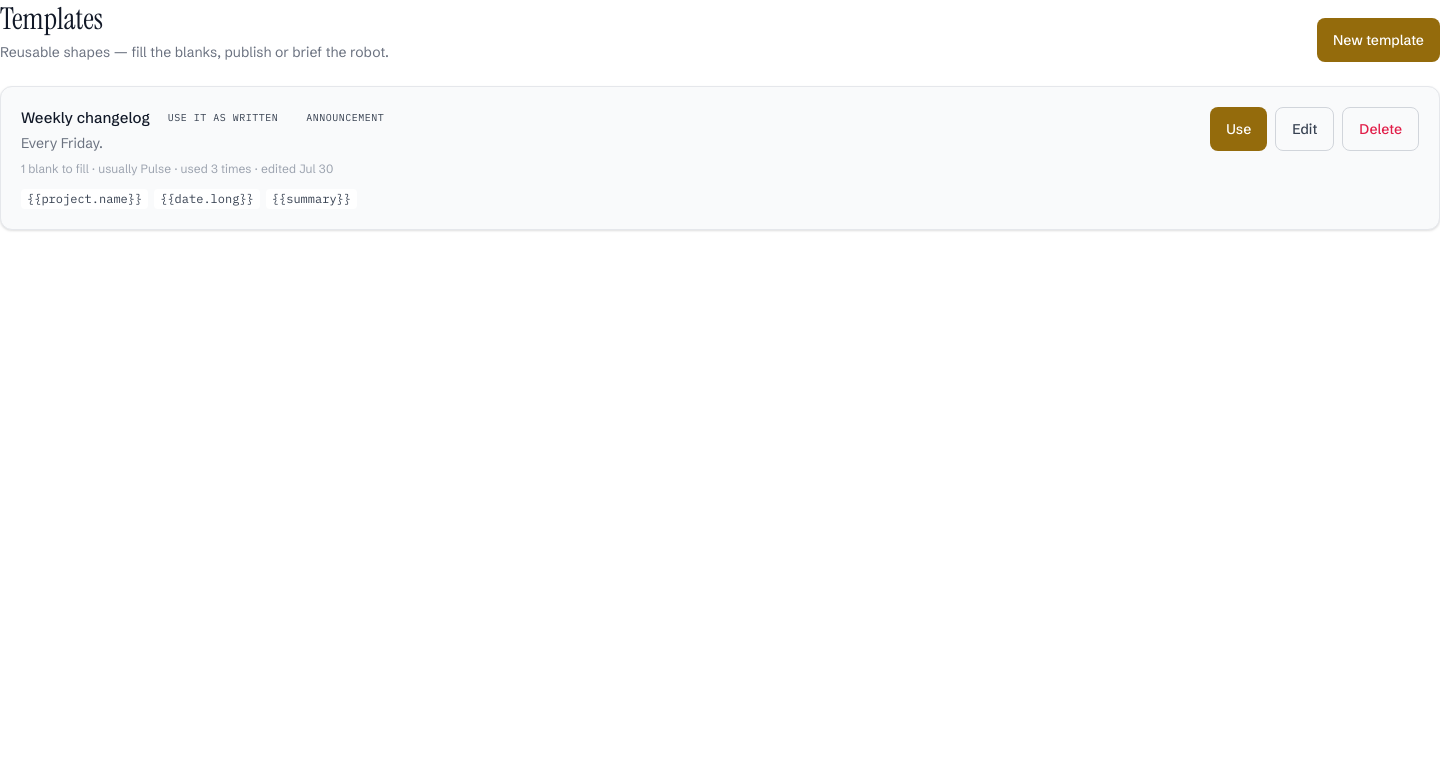
Test case: the editor › names a variable that the template never uses
Click the button "Edit": [1305, 128] box [1275,106,1334,150]
(page scrolled)
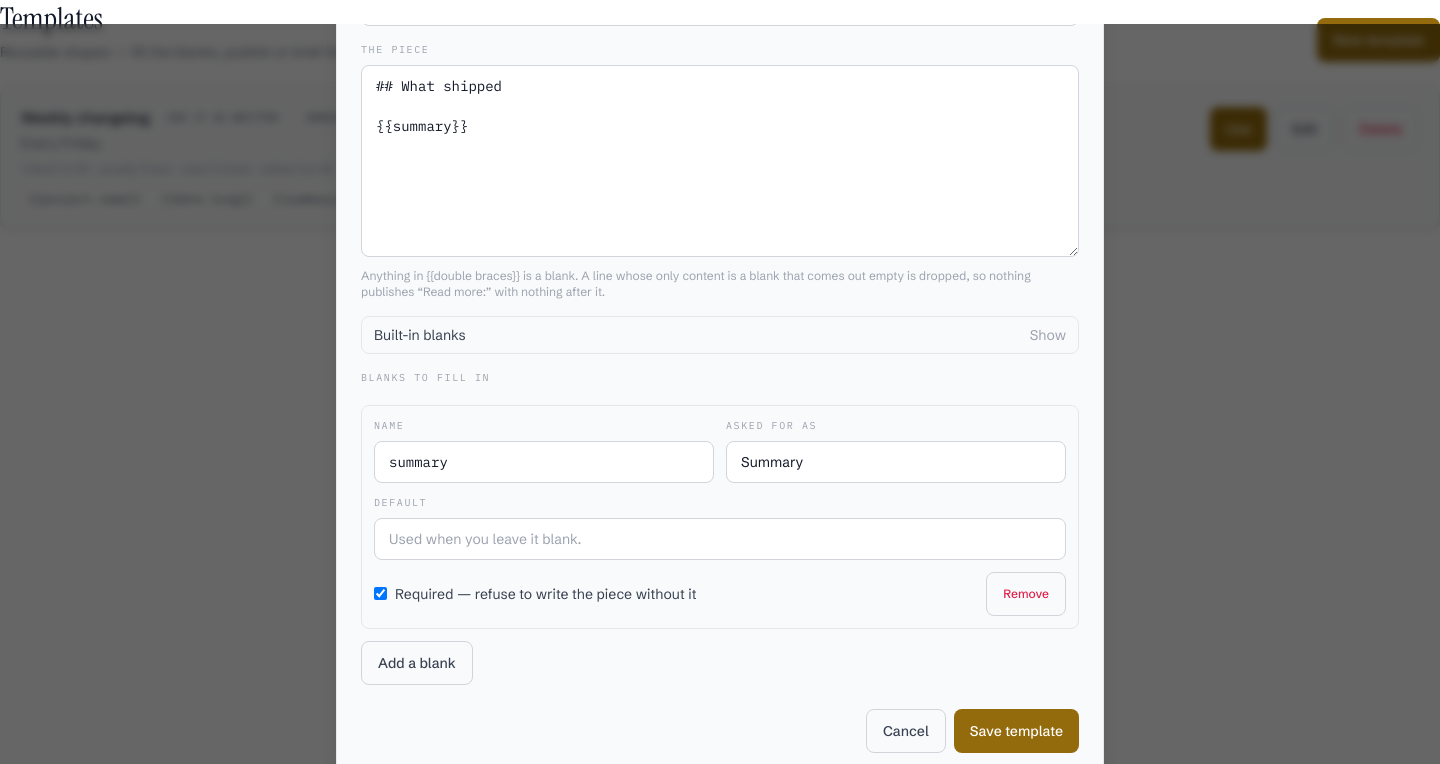
Click the button "Add a blank": [417, 662] box [361,640,473,684]
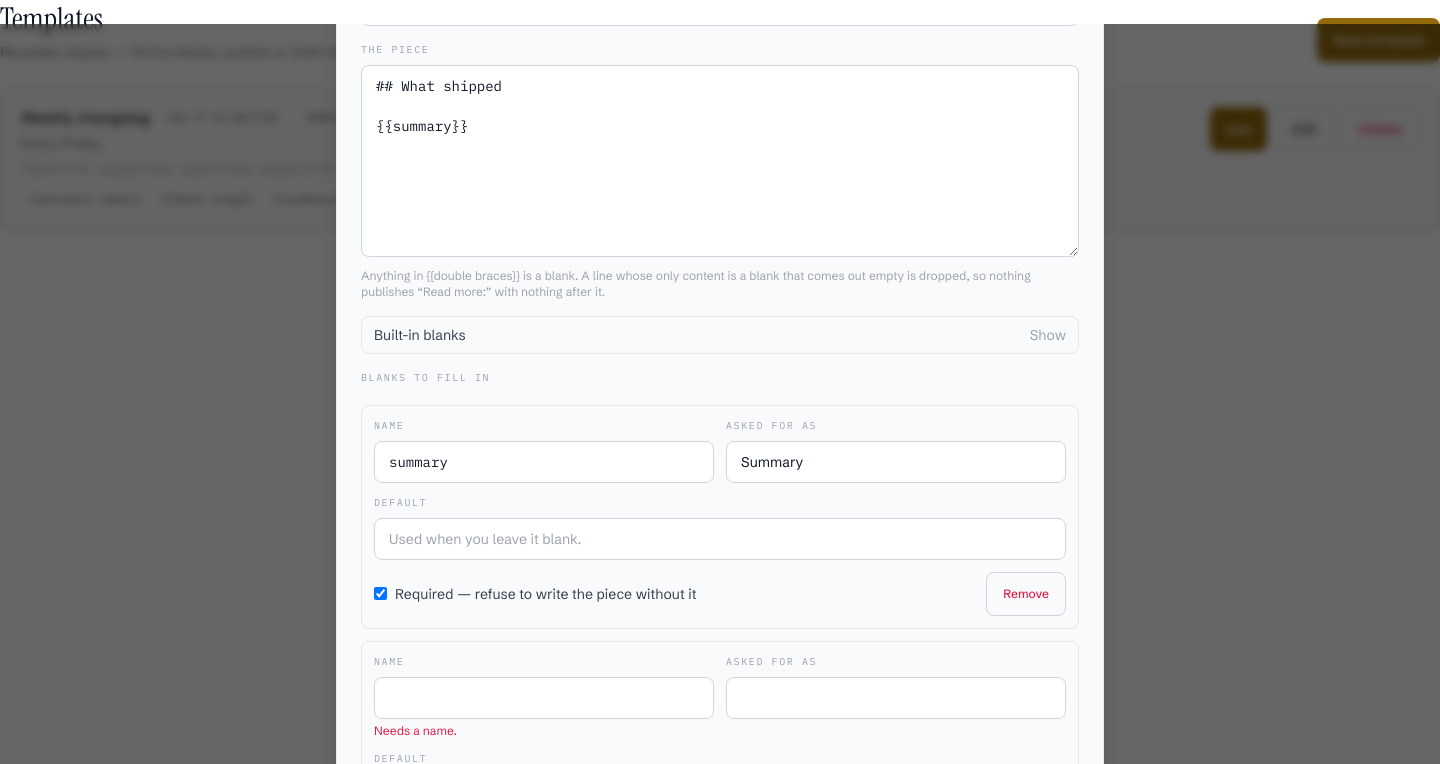
In the 2nd field labelled "Name": [544, 698] box [374,676,714,718], type "spare"
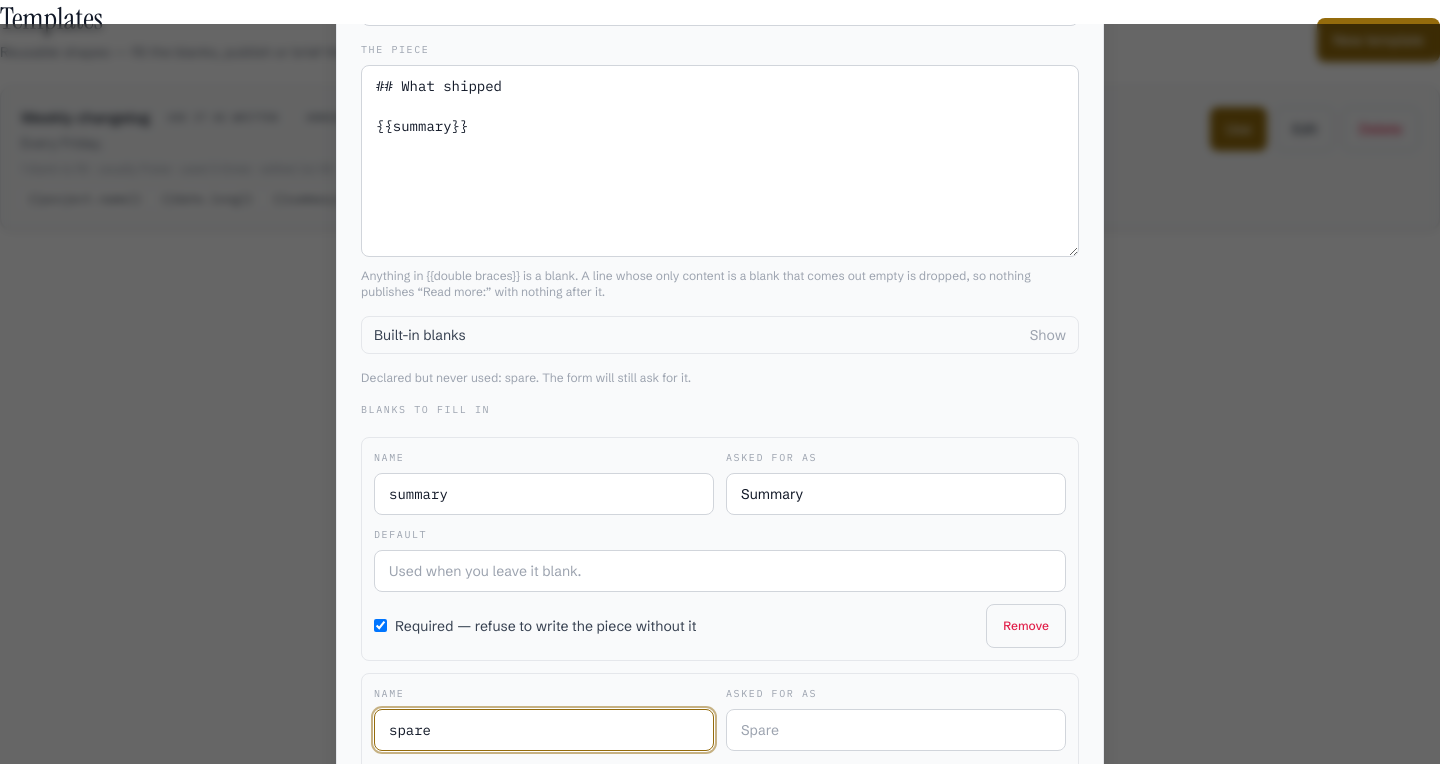
Result: the text "still ask for it." is shown at [361,370,691,384]
